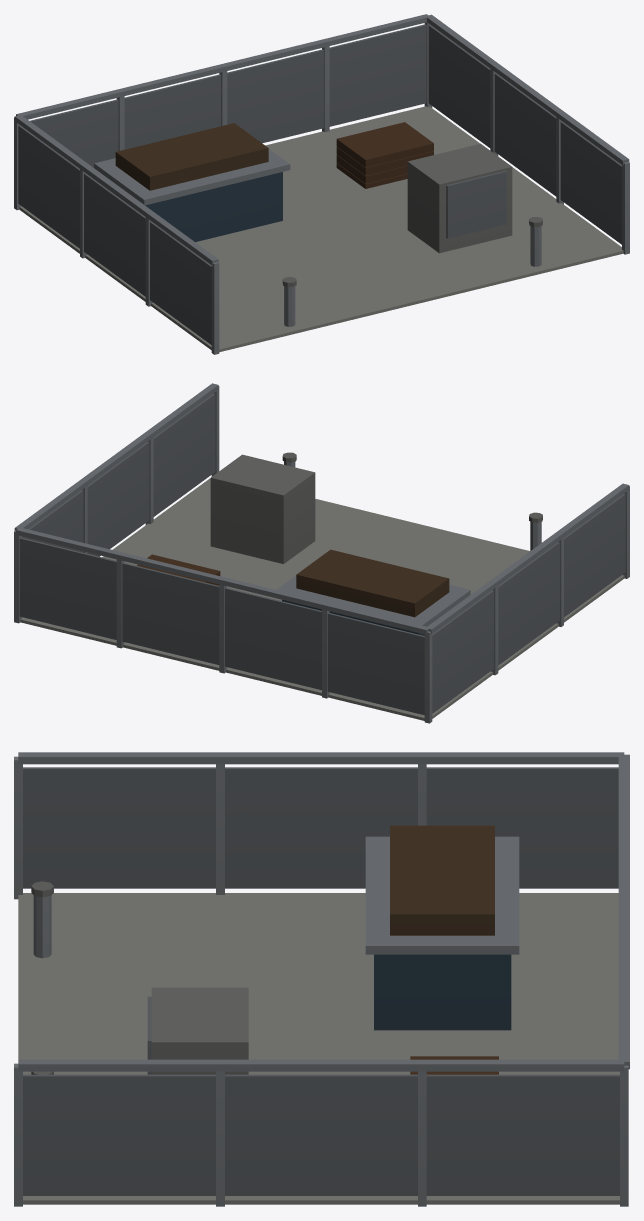
File: yard_city_service.glb
3 views of the same model, one above another, from view 1: azimuth 30°, elevation 25°; view 2: azimuth 150°, elevation 25°; view 3: azimuth 270°, elevation 25° (orthographic). The views are drawn at different scales.
Parts seen in each view (by area): view 1: prop; view 2: prop; view 3: prop.
Boxes of the visible parts, bbox=[...] form: prop: bbox=[14, 14, 629, 354]; prop: bbox=[14, 383, 629, 723]; prop: bbox=[14, 752, 629, 1206].
Size of the model in its own units: 9.14 by 1.95 by 7.62.
